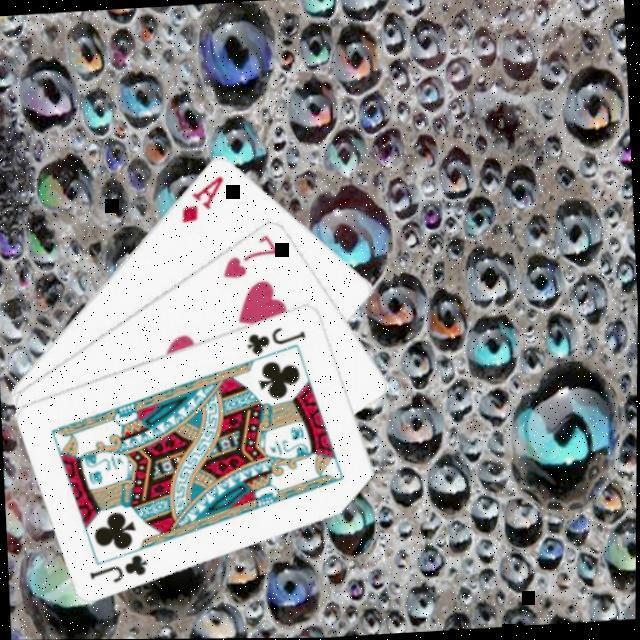7H: (220, 232, 284, 284)
AD: (178, 174, 231, 229)
JC: (88, 551, 156, 588), (245, 323, 313, 359)
